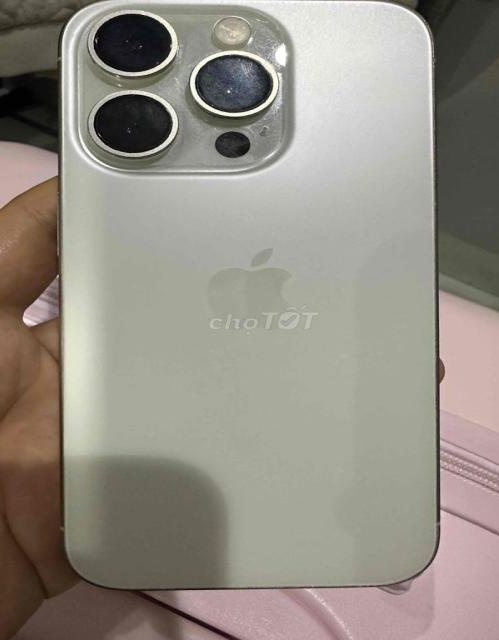scratch: (73, 7, 290, 172)
